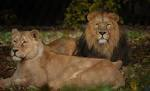lion: (7, 27, 126, 91), (44, 11, 126, 60)
